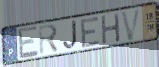E: (17, 24, 40, 61), (80, 15, 101, 49)
H: (100, 11, 122, 46)
J: (62, 19, 78, 51)
R: (37, 23, 60, 57)
V: (120, 6, 143, 43)
